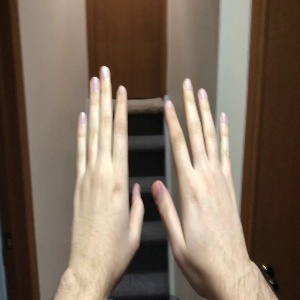hand: (152, 79, 248, 268), (71, 65, 143, 273)
